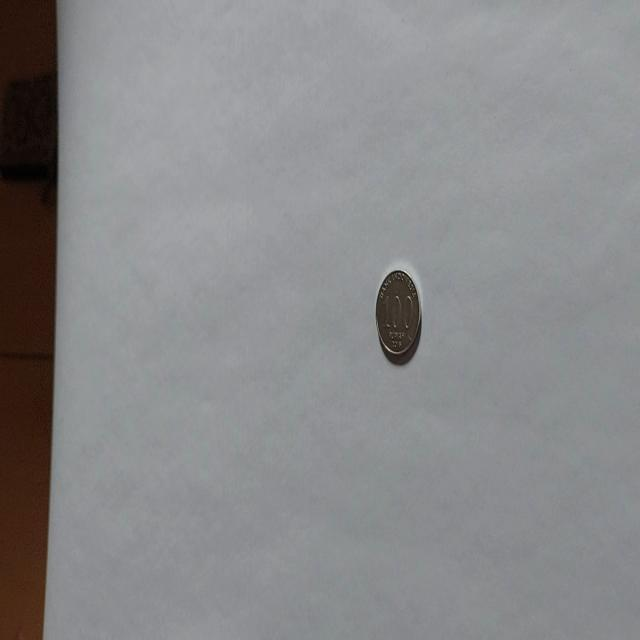seratus rupiah: (374, 266, 422, 364)
